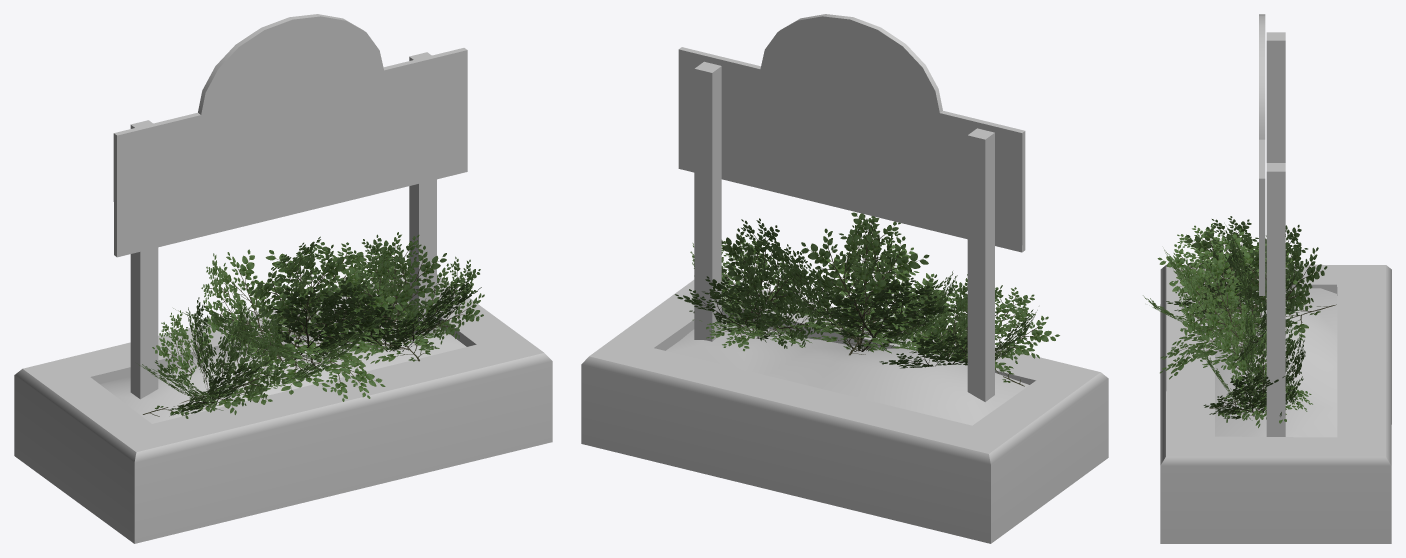
File: Sun_0006_Vela_Woods_Welcome_Sign.fbx
3 renders of one model, left to right at view 1: azimuth 30°, elevation 25°; view 2: azimuth 150°, elevation 25°; view 3: azimuth 270°, elevation 25°, orthographic. The views are drawn at different scales.
Parts seen in each view (by area): view 1: Sun_0006_Vela_Woods_Welcome_Sign; view 2: Sun_0006_Vela_Woods_Welcome_Sign; view 3: Sun_0006_Vela_Woods_Welcome_Sign.
Part boxes in pixels (box(x1,y1,x2,y2)): Sun_0006_Vela_Woods_Welcome_Sign: box(14, 14, 552, 543); Sun_0006_Vela_Woods_Welcome_Sign: box(581, 14, 1108, 543); Sun_0006_Vela_Woods_Welcome_Sign: box(1143, 14, 1391, 543).
Bounding box in the file's own units: 200 × 199 × 110.
